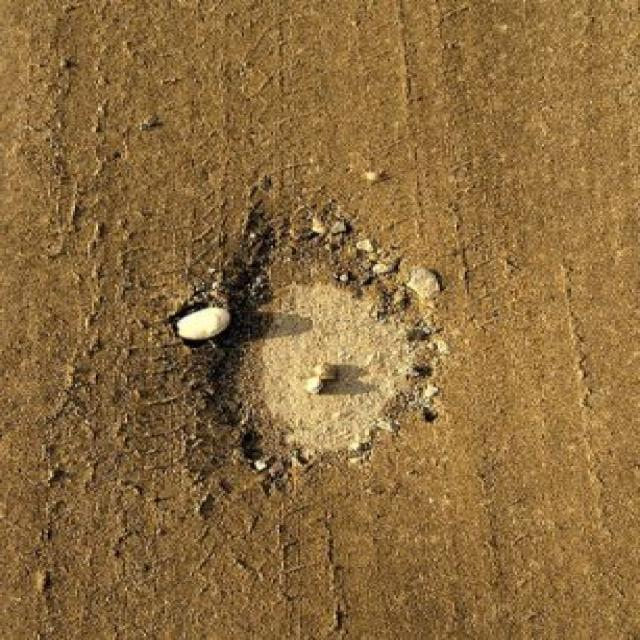Pothole: (164, 209, 462, 478)
